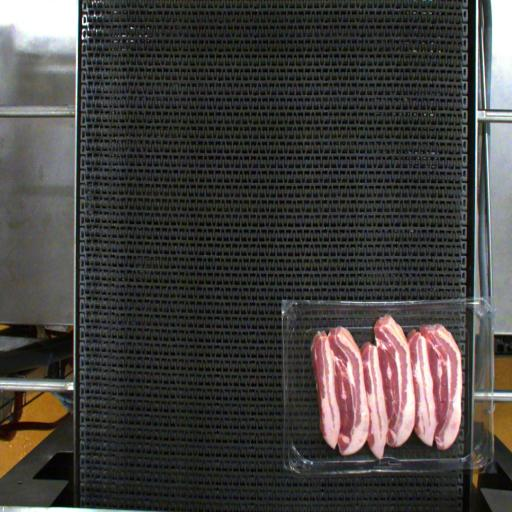packaging-error: (370, 444, 386, 470)
